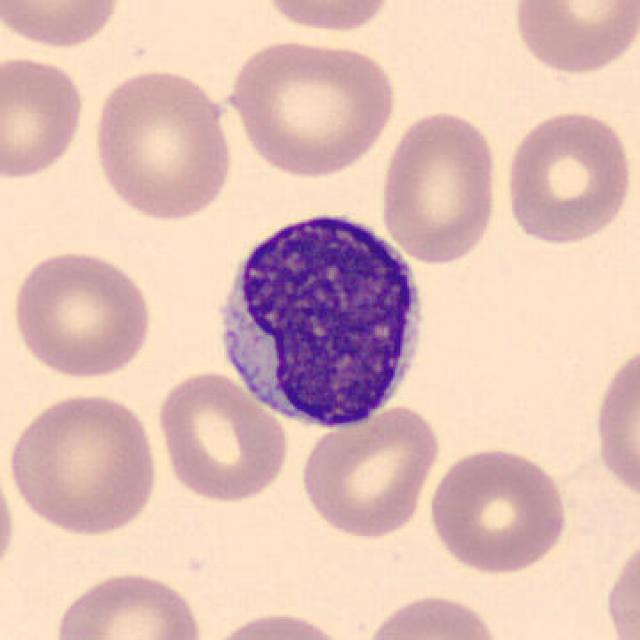Lymphocyte: (210, 204, 440, 442)
RBC: (220, 35, 400, 180), (3, 390, 162, 538), (89, 65, 236, 224), (7, 245, 157, 383), (297, 400, 443, 541), (425, 442, 572, 576), (377, 108, 501, 266), (153, 367, 291, 506), (500, 105, 634, 248), (49, 567, 206, 640), (0, 53, 89, 181), (508, 0, 638, 78), (590, 335, 638, 510), (359, 589, 507, 640), (0, 0, 124, 51), (199, 608, 359, 640), (257, 0, 398, 35), (601, 530, 640, 640), (0, 451, 20, 587)
